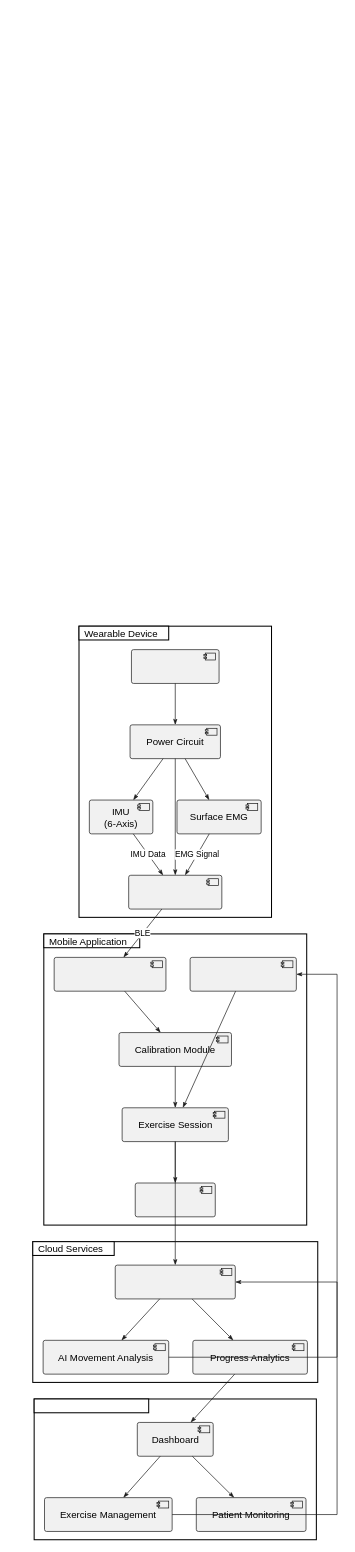
This 355x1552 diagram has some shape labels left out. Here are the shapes that lost their labels. From the top down, the box of each, then its label:
(131, 649, 219, 683): Li-Po Battery
(128, 875, 222, 909): ESP32 BLE Controller
(53, 957, 166, 991): Bluetooth Manager
(189, 957, 296, 991): Feedback Module
(135, 1182, 215, 1217): Digital Twin
(115, 1264, 235, 1299): Firebase / Database
(33, 1398, 149, 1413): Physiotherapist Portal
